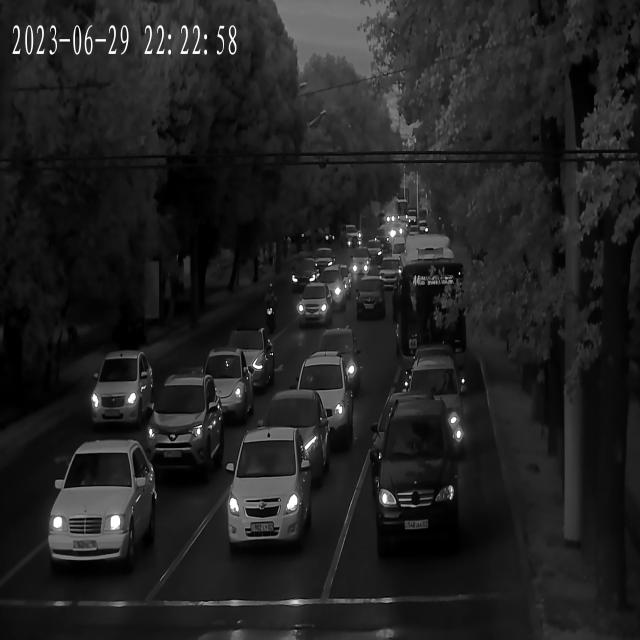Bus: (400, 231, 466, 383)
Car: (52, 442, 159, 570), (366, 402, 461, 540), (224, 430, 312, 550), (137, 380, 222, 473), (242, 395, 328, 485), (286, 360, 351, 450), (393, 386, 465, 467), (88, 348, 157, 432), (185, 348, 253, 424), (305, 338, 360, 402), (216, 331, 273, 392), (407, 344, 462, 384), (296, 286, 336, 329), (351, 277, 391, 319), (312, 270, 350, 308), (375, 256, 410, 291), (289, 263, 320, 293), (310, 250, 336, 272), (346, 256, 371, 278), (364, 243, 386, 263)
